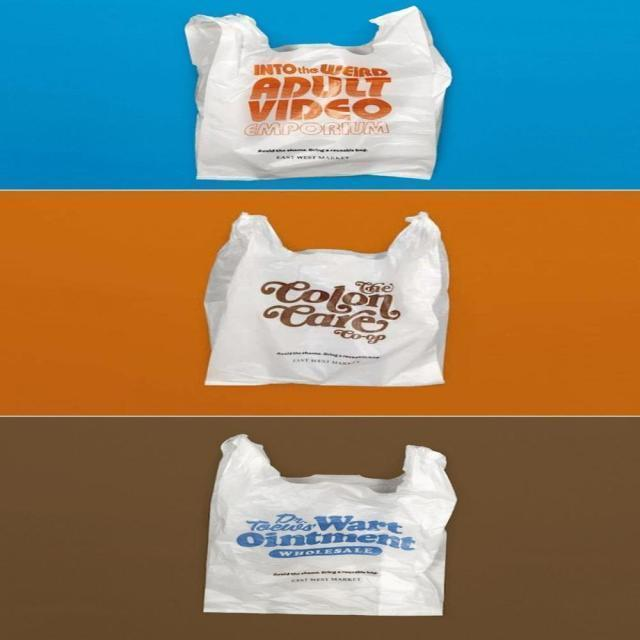Plastic_Bag: (178, 10, 453, 188)
